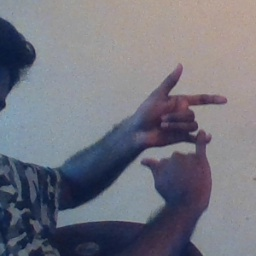S: (135, 56, 234, 201)
